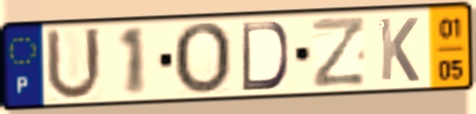1: (116, 24, 147, 99)
D: (238, 20, 291, 94)
K: (376, 16, 421, 84)
O: (170, 20, 235, 97)
U: (43, 25, 105, 104)
Z: (310, 15, 368, 91)
